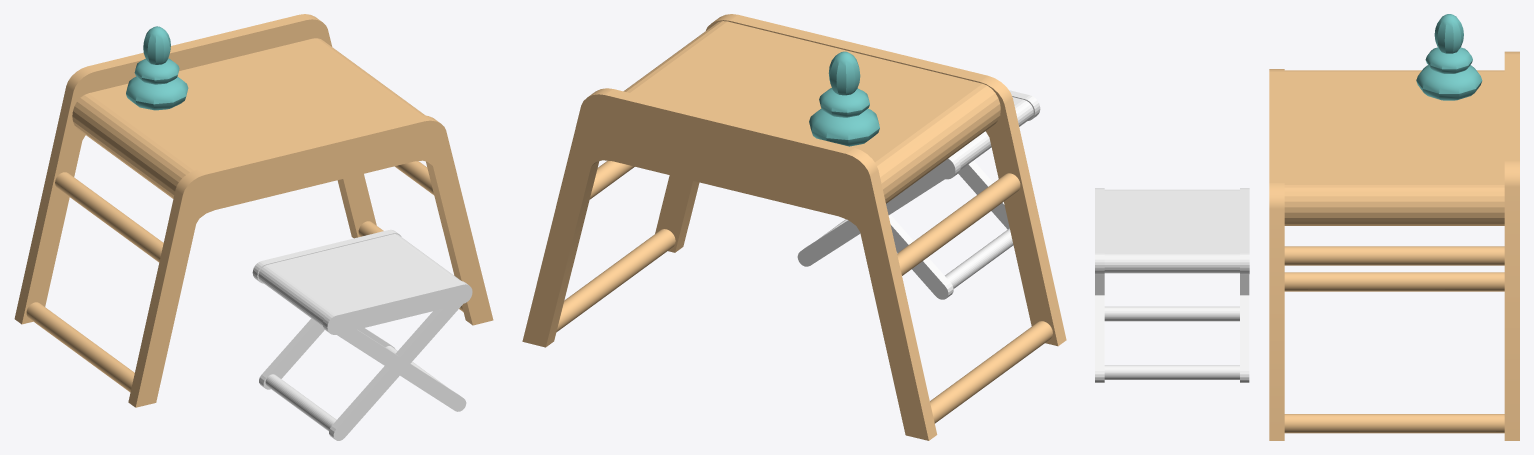
Rendered from Furn4_worktable_color1_joined.fbx.
3 views of the same model, side by side, from view 1: azimuth 30°, elevation 25°; view 2: azimuth 150°, elevation 25°; view 3: azimuth 270°, elevation 25° (orthographic). The views are drawn at different scales.
Visible parts, largest first — view 1: Куб.250; view 2: Куб.250; view 3: Куб.250.
Boxes of the visible parts, x1=… form: Куб.250: x1=14, y1=14, x2=493, y2=440; Куб.250: x1=522, y1=14, x2=1066, y2=440; Куб.250: x1=1095, y1=14, x2=1519, y2=440.
Bounding box in the file's own units: 244 × 189 × 242.
